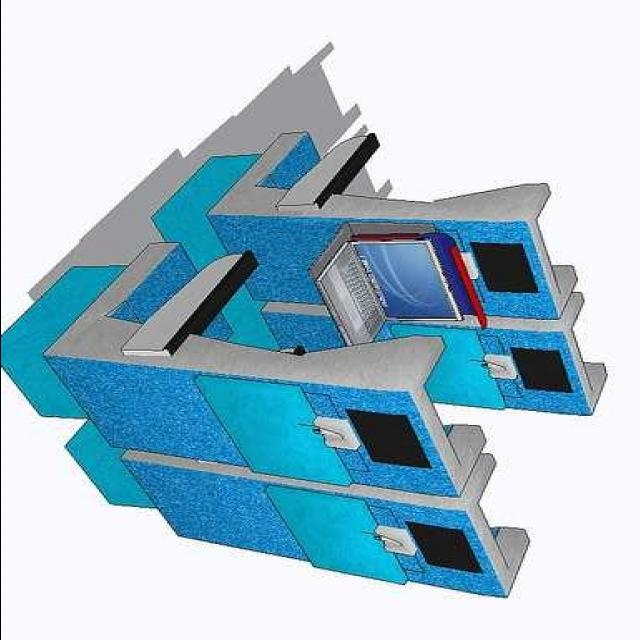laptop: (292, 230, 452, 336)
